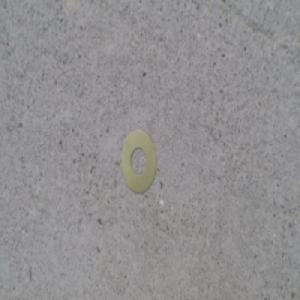Washer: (122, 128, 158, 194)
